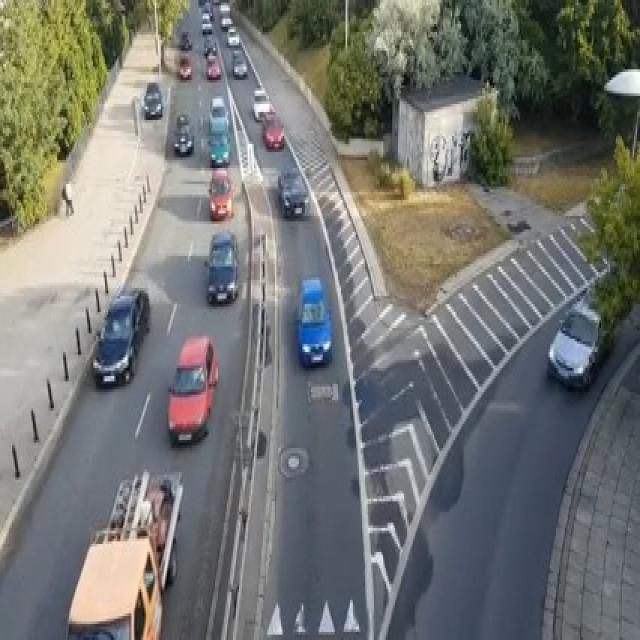car: (92, 467, 183, 592), (167, 334, 218, 446), (92, 285, 148, 387), (547, 299, 604, 389), (296, 275, 332, 368), (203, 229, 237, 304), (276, 168, 308, 219), (207, 168, 233, 219), (173, 112, 194, 155), (261, 112, 284, 149), (206, 134, 230, 166), (251, 88, 273, 120), (143, 80, 162, 117), (209, 96, 228, 133), (232, 48, 246, 77), (206, 56, 221, 80), (225, 24, 239, 45), (203, 35, 216, 56), (179, 56, 191, 77), (179, 29, 191, 48), (200, 18, 212, 34), (219, 16, 233, 29), (219, 0, 229, 13), (212, 0, 221, 3)
